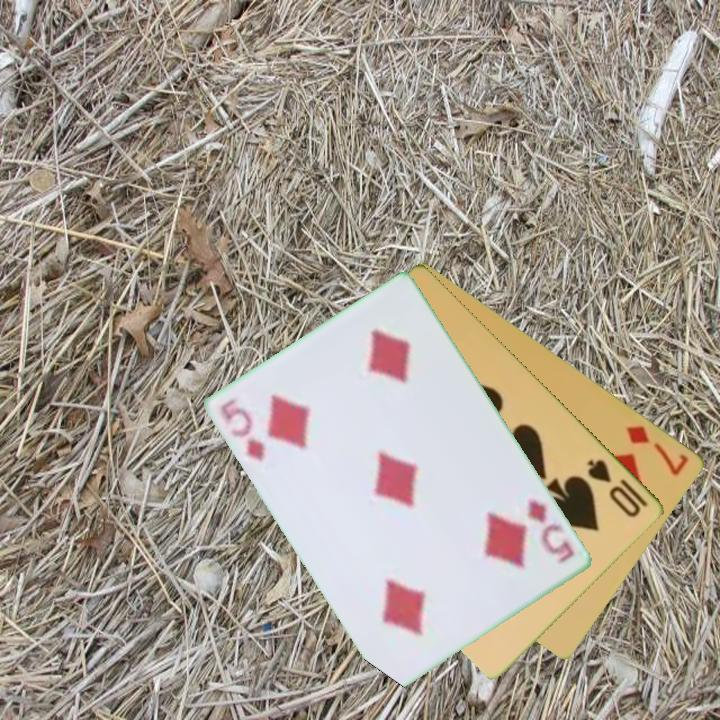10s: (584, 455, 652, 521)
5d: (524, 495, 578, 568), (217, 395, 269, 465)
7d: (623, 421, 692, 479)
